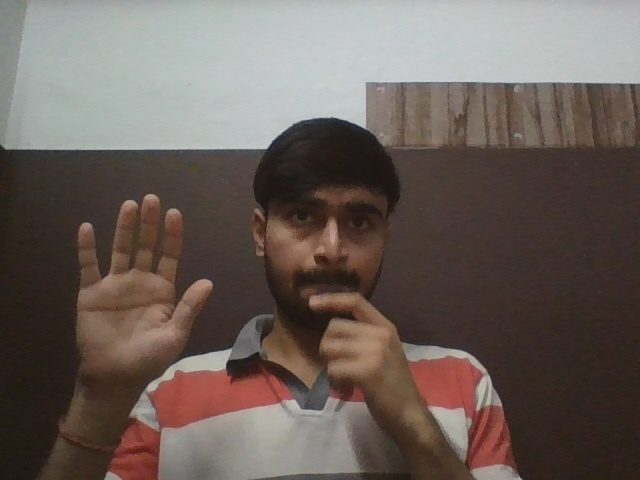Hello: (76, 193, 214, 393)
